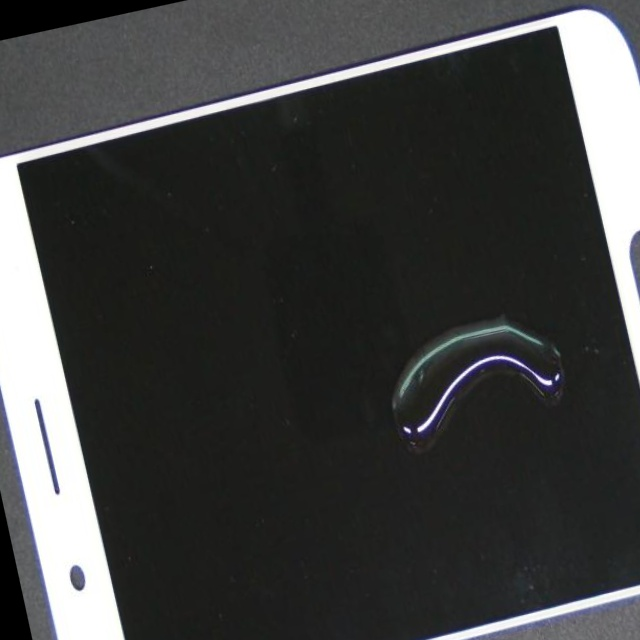oil: (196, 91, 640, 640)
